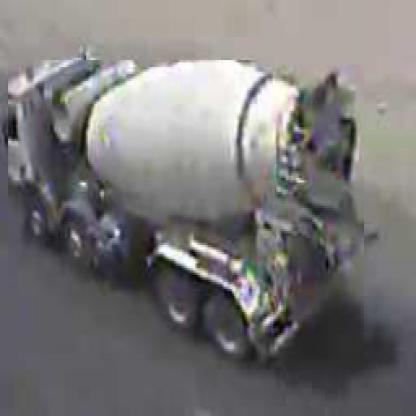truck: (9, 61, 367, 364)
